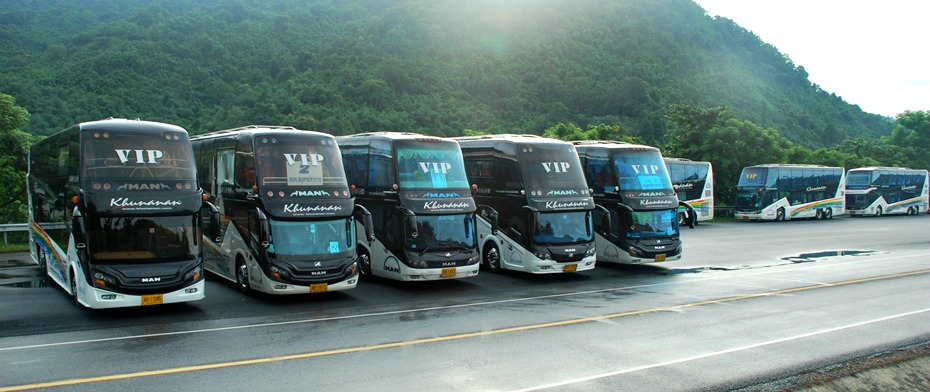bus: (26, 116, 206, 312), (212, 124, 360, 300), (364, 128, 481, 285), (486, 132, 599, 275), (604, 140, 683, 264), (734, 161, 846, 220), (852, 165, 929, 218)
